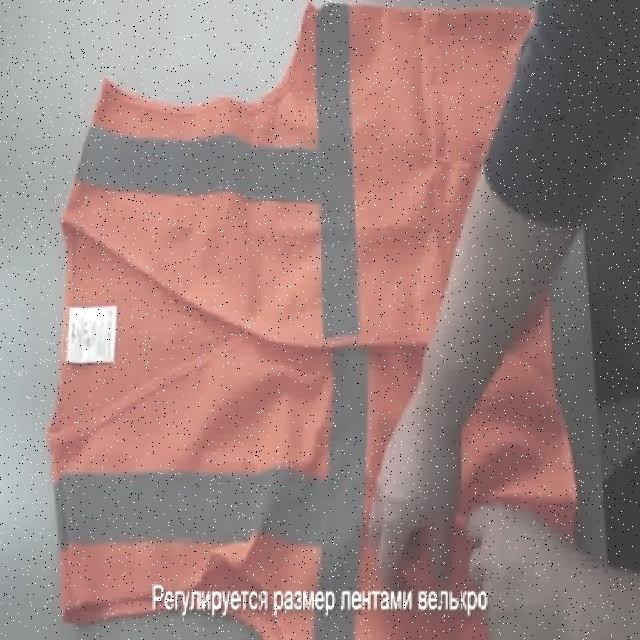Mask: (43, 0, 578, 635)
